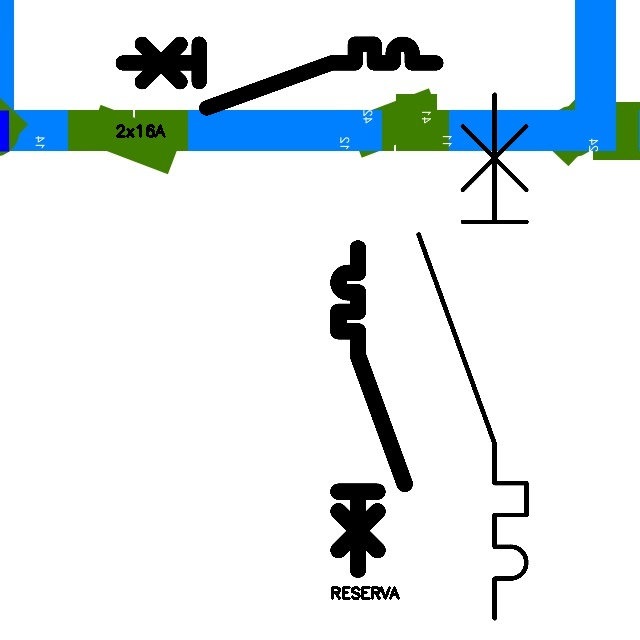interruptor_termomagnetico: (405, 81, 540, 632), (330, 240, 412, 578), (115, 36, 444, 116)
